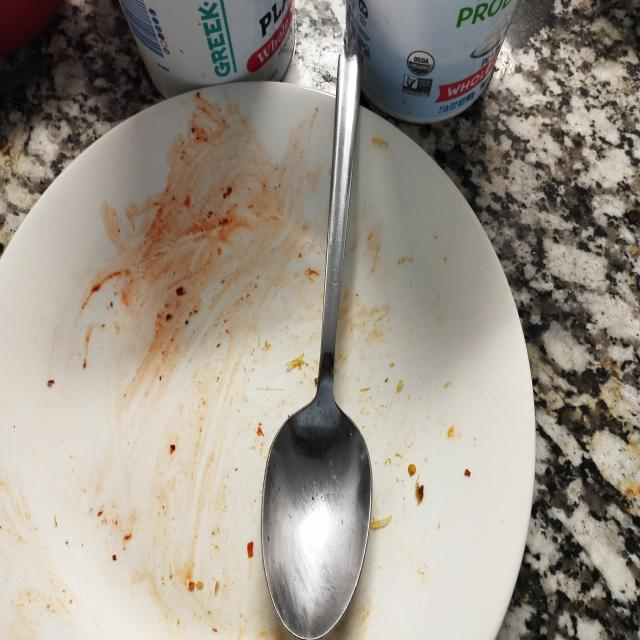Spoon: (251, 51, 396, 640)
